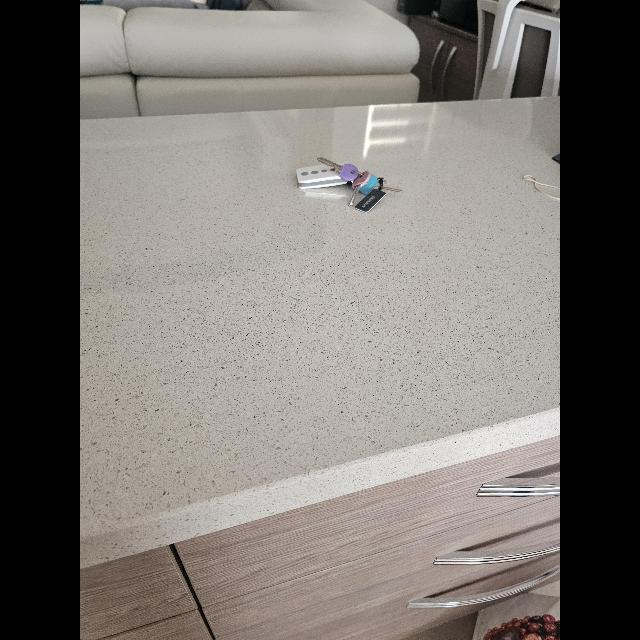Keys: (316, 157, 402, 207)
